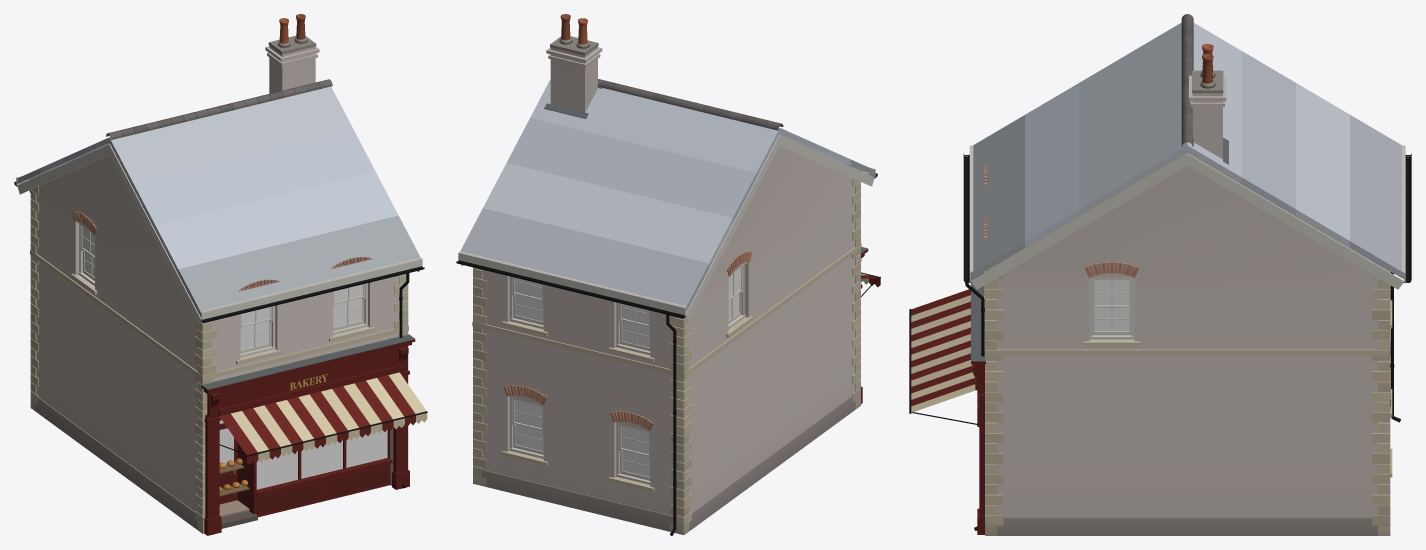
Rendered from town_bakery_a.glb.
3 renders of one model, left to right at view 1: azimuth 30°, elevation 25°; view 2: azimuth 150°, elevation 25°; view 3: azimuth 270°, elevation 25°, orthographic. The views are drawn at different scales.
Parts seen in each view (by area): view 1: body; view 2: body; view 3: body.
Part boxes in pixels (<box>): body: <box>14,14,427,535</box>; body: <box>456,14,880,535</box>; body: <box>909,14,1411,535</box>.
Size of what is drawn, in the model's own units: 5.97 by 10.35 by 9.96.
